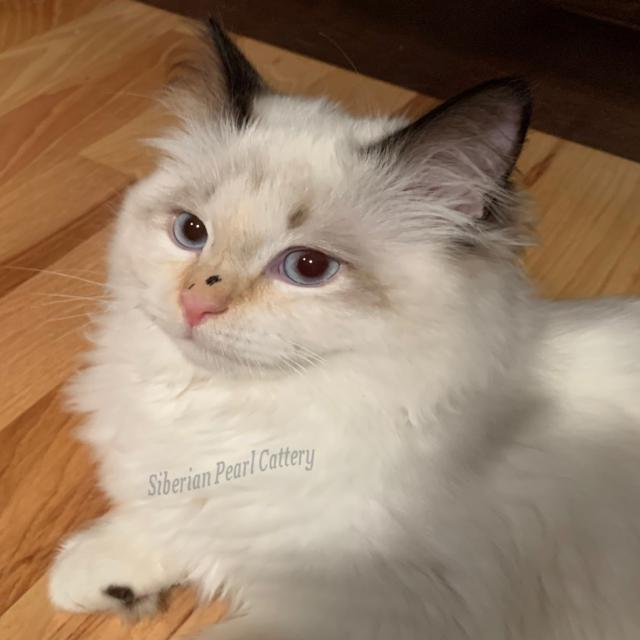Neva Masquerade: (42, 8, 640, 640)
